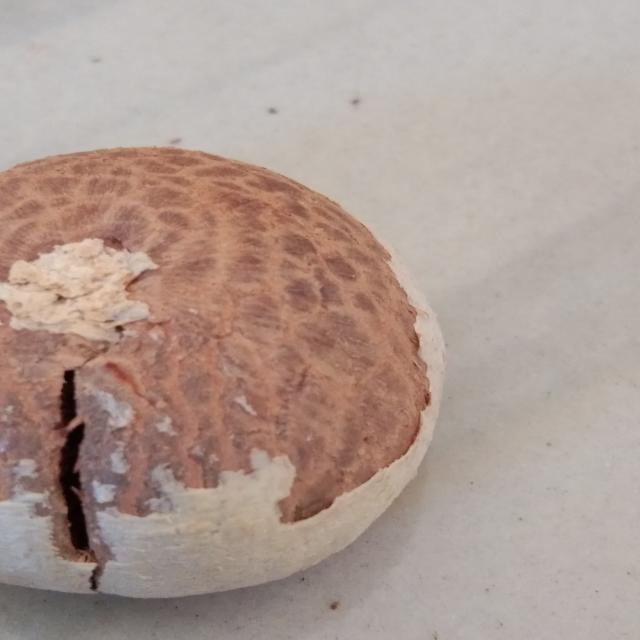phatora: (0, 133, 449, 583)
